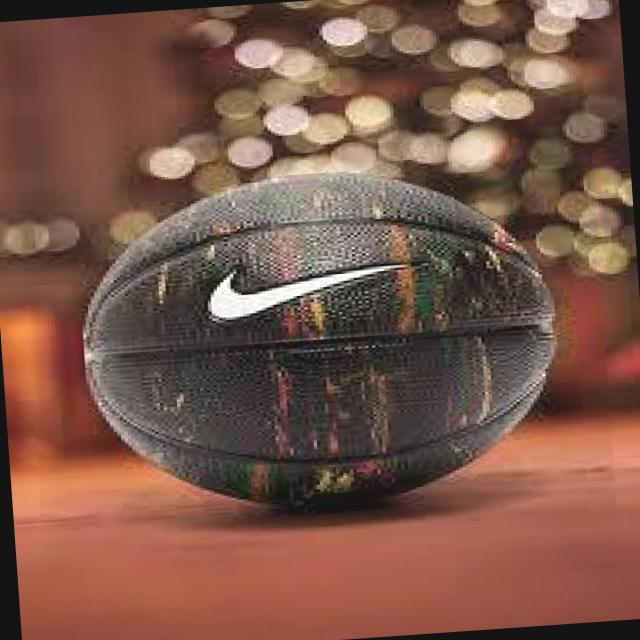ball: (68, 148, 586, 530)
